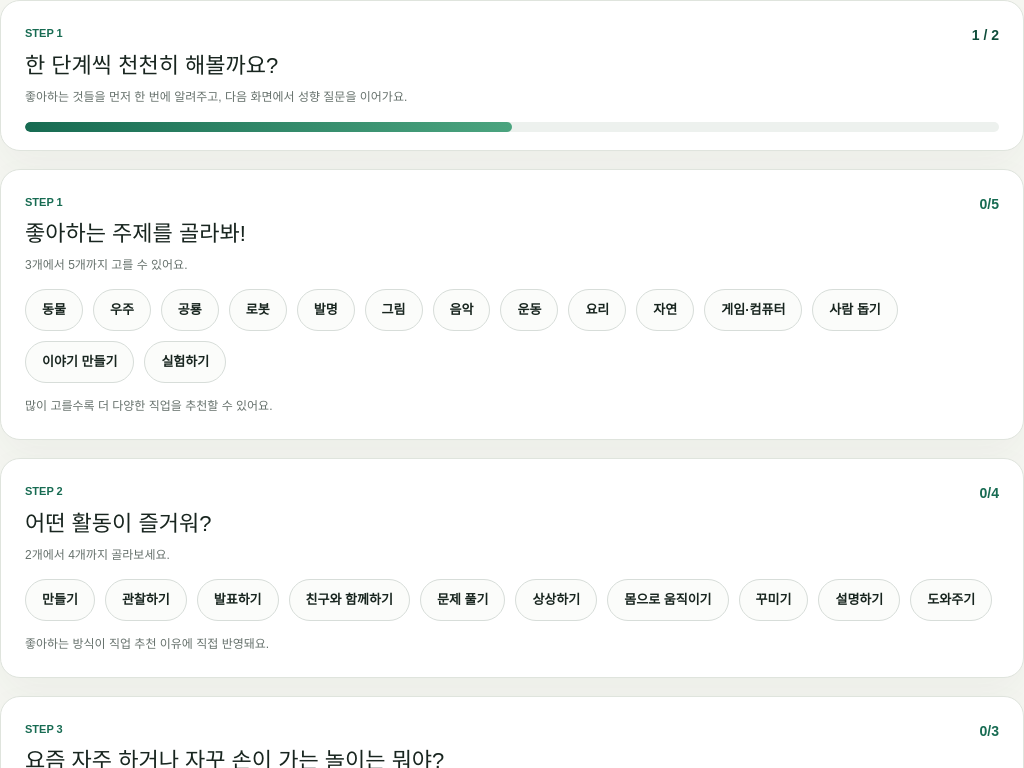
Test: shows an error if trying to continue without enough first-page answers
Click the button "동물". click: coordinates (54, 310)
box: 25,289 -> 83,331
(page scrolled)
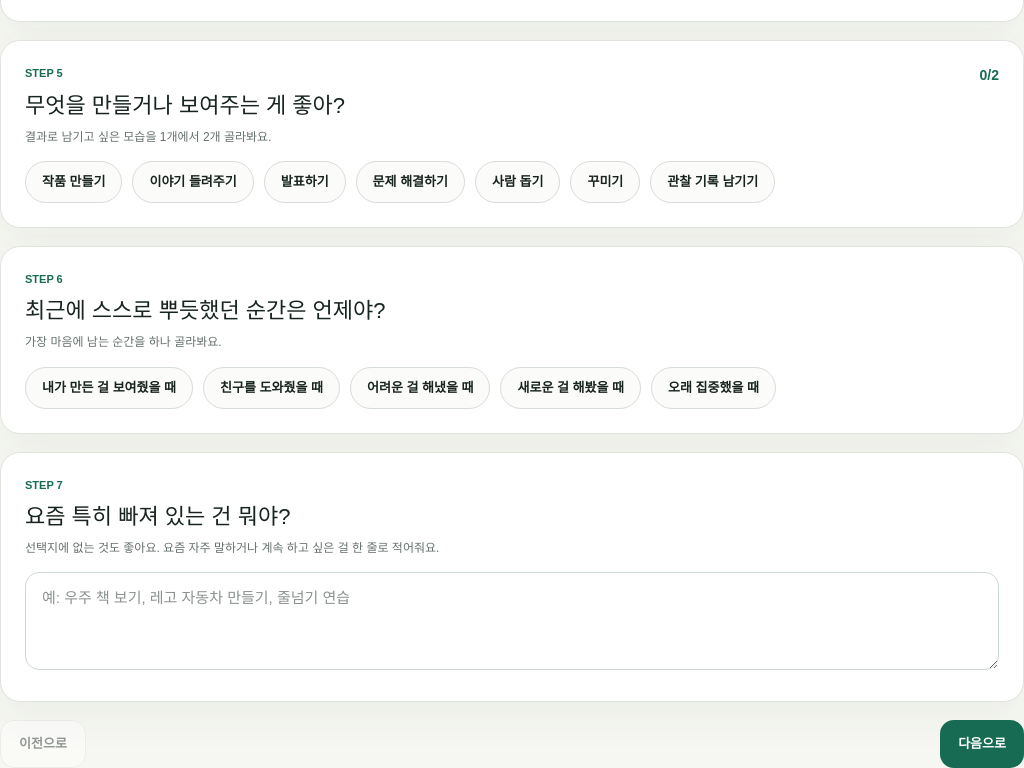
Click the button "다음으로". click: coordinates (982, 744)
box: 940,720 -> 1023,767
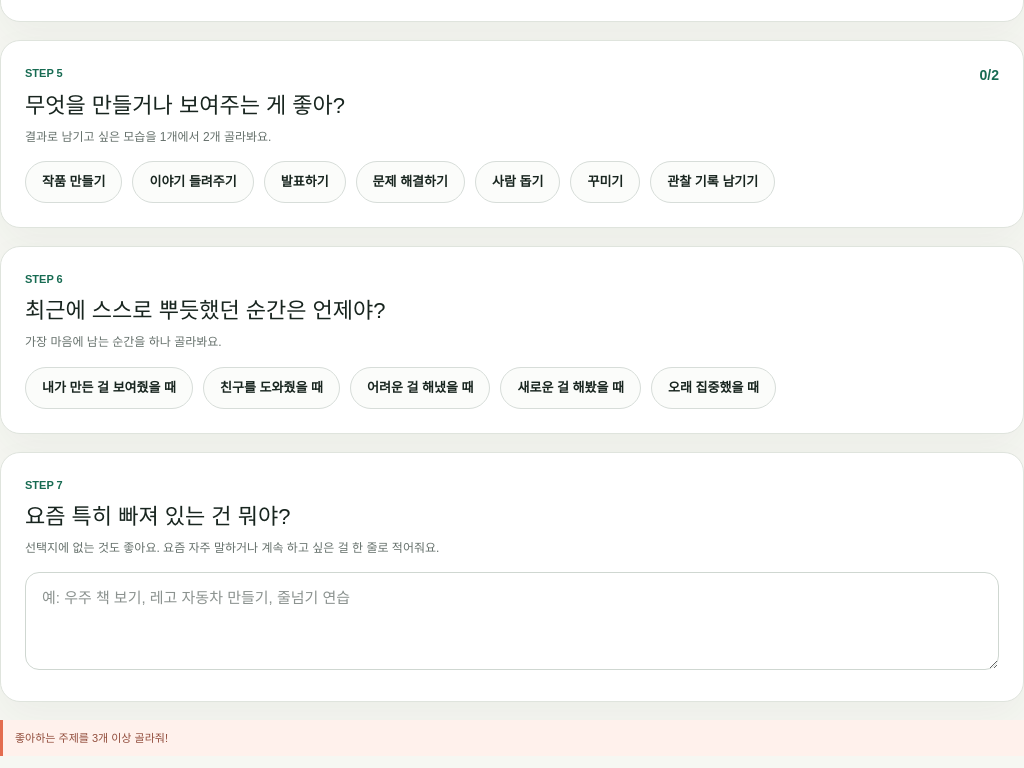
Check: the text "좋아하는 주제를 3개 이상 골라줘!" is shown, box 0,720 -> 1023,756
